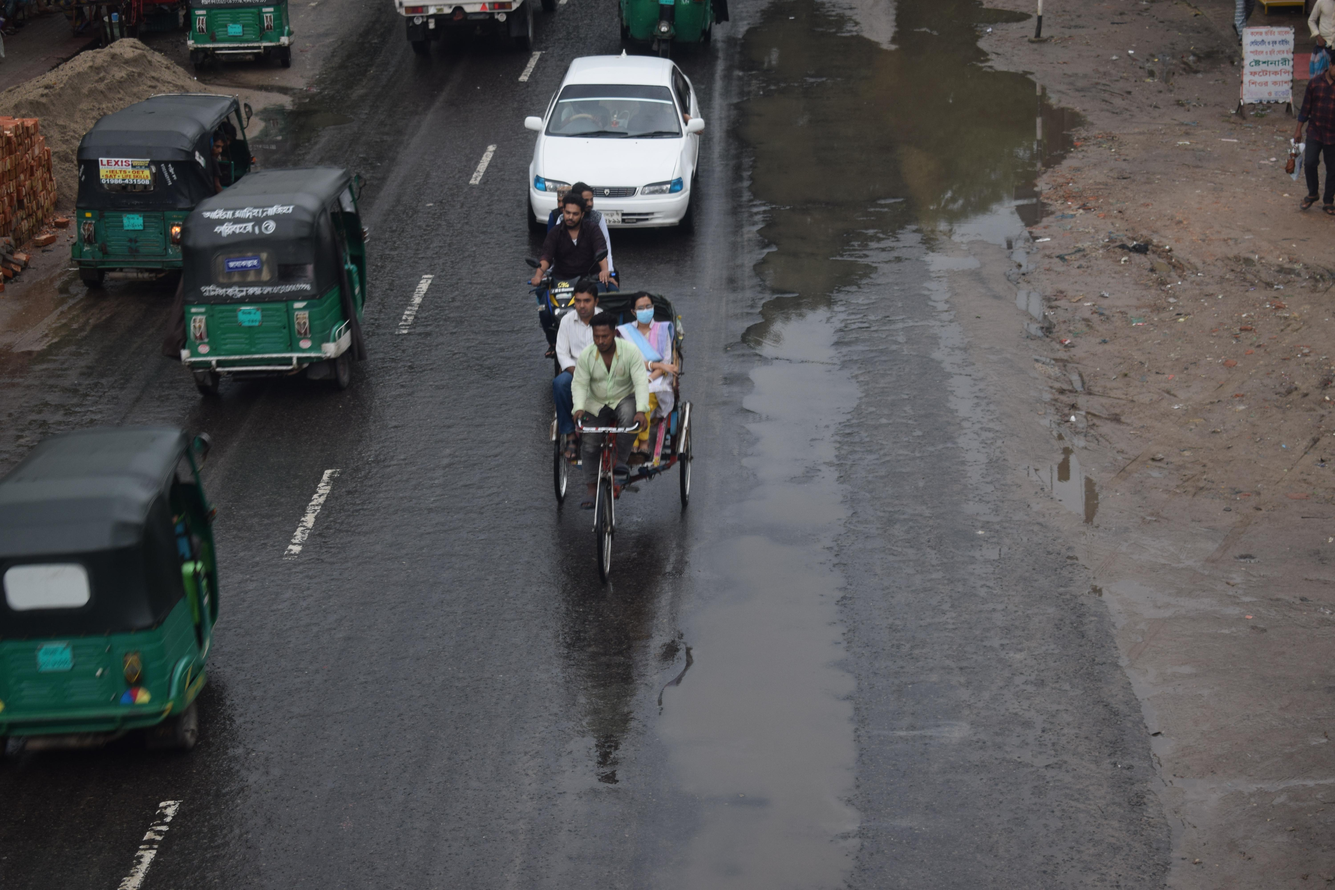Bike: (509, 161, 633, 371)
Car: (516, 275, 726, 603), (496, 35, 732, 253)
